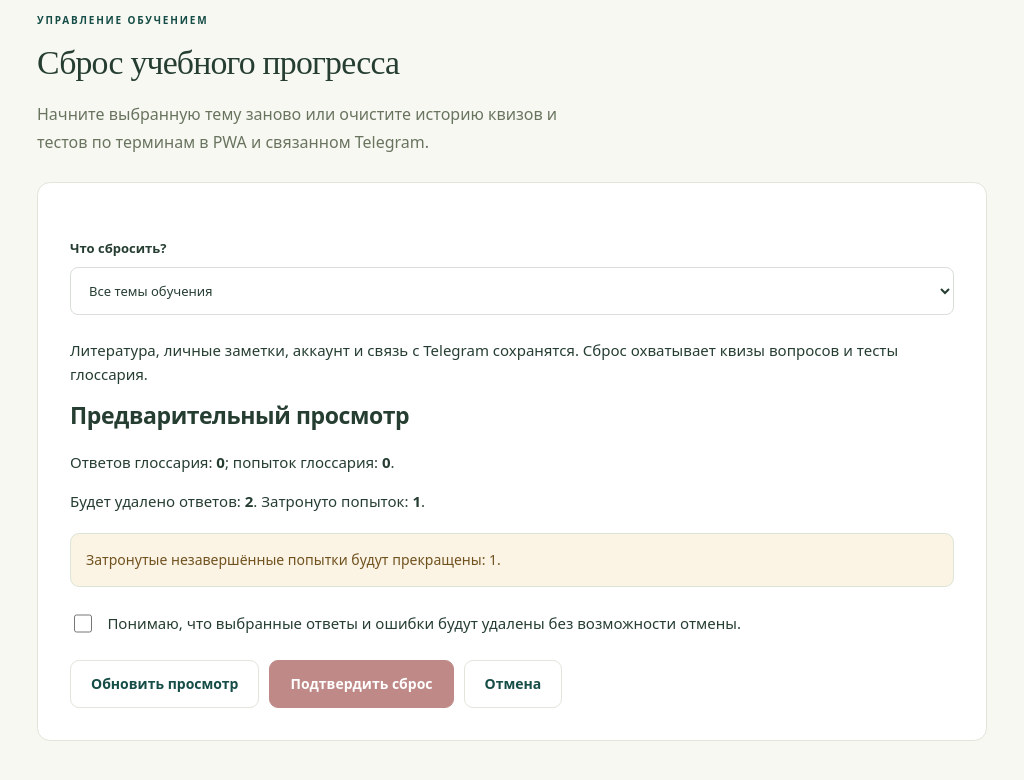
Test: changing scope clears the previous confirmation and explains mixed-attempt preservation
Step 1. Click the checkbox → [83, 623], box [74,614,92,633]
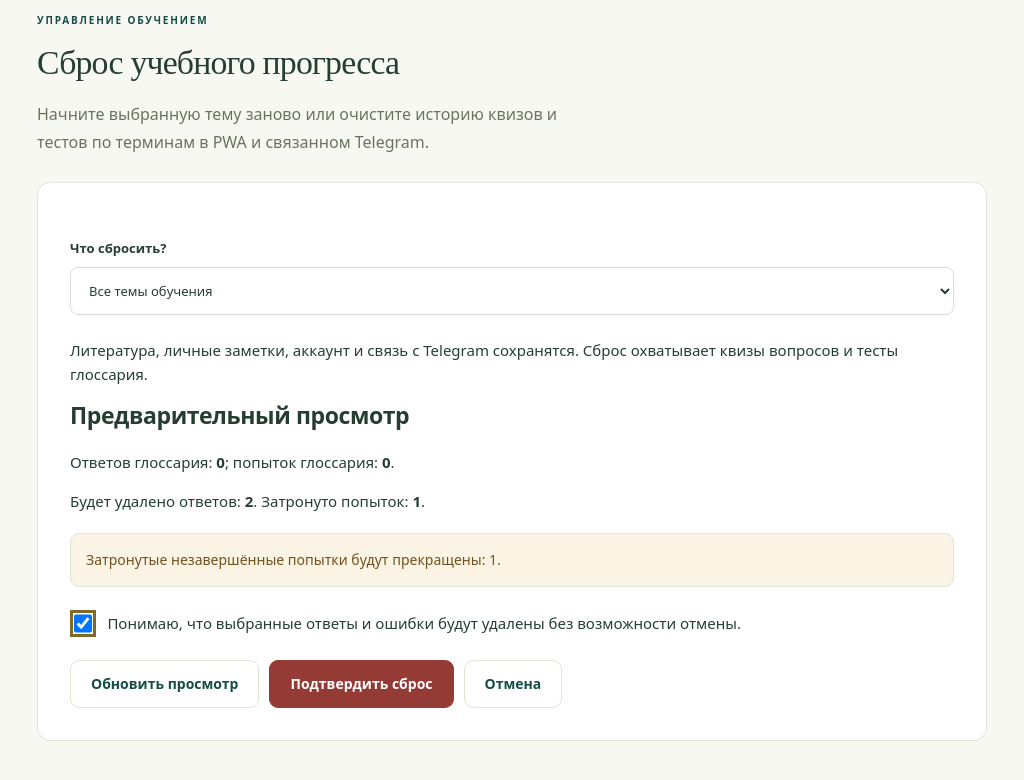
Step 2. Select "Память" in the dropdown → [512, 291], box [70,267,954,315]
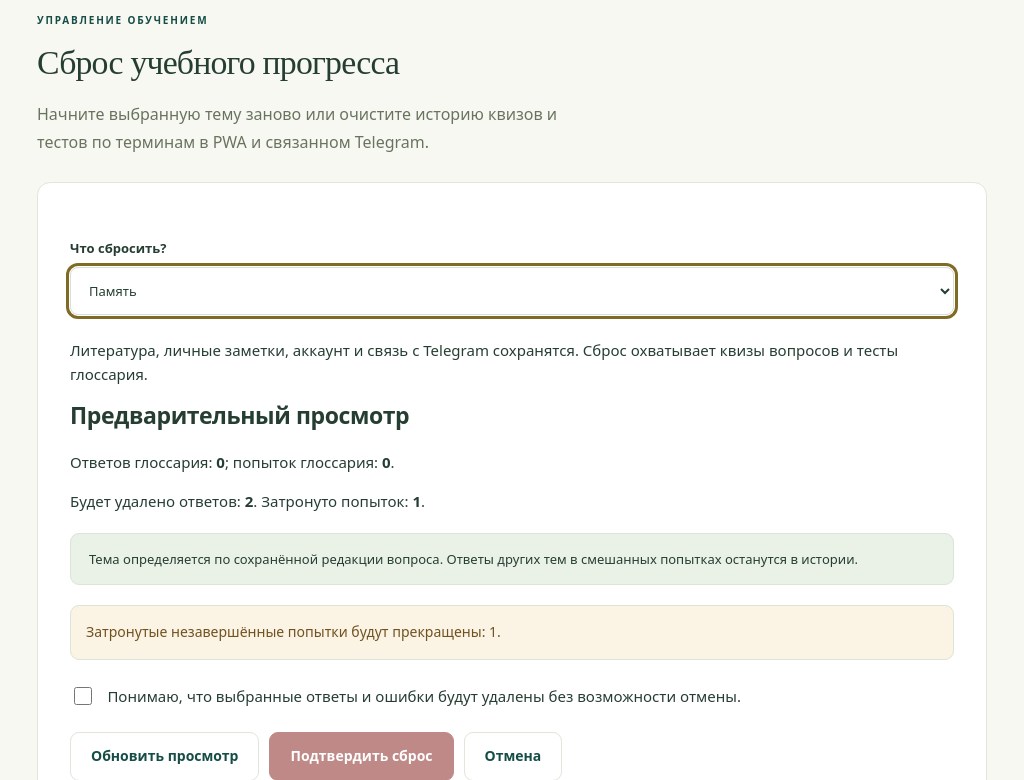
Check: the button "Подтвердить сброс" is disabled, box [270,732,454,779]
Check: the text "Ответы других тем" is shown, box [89,550,858,568]
